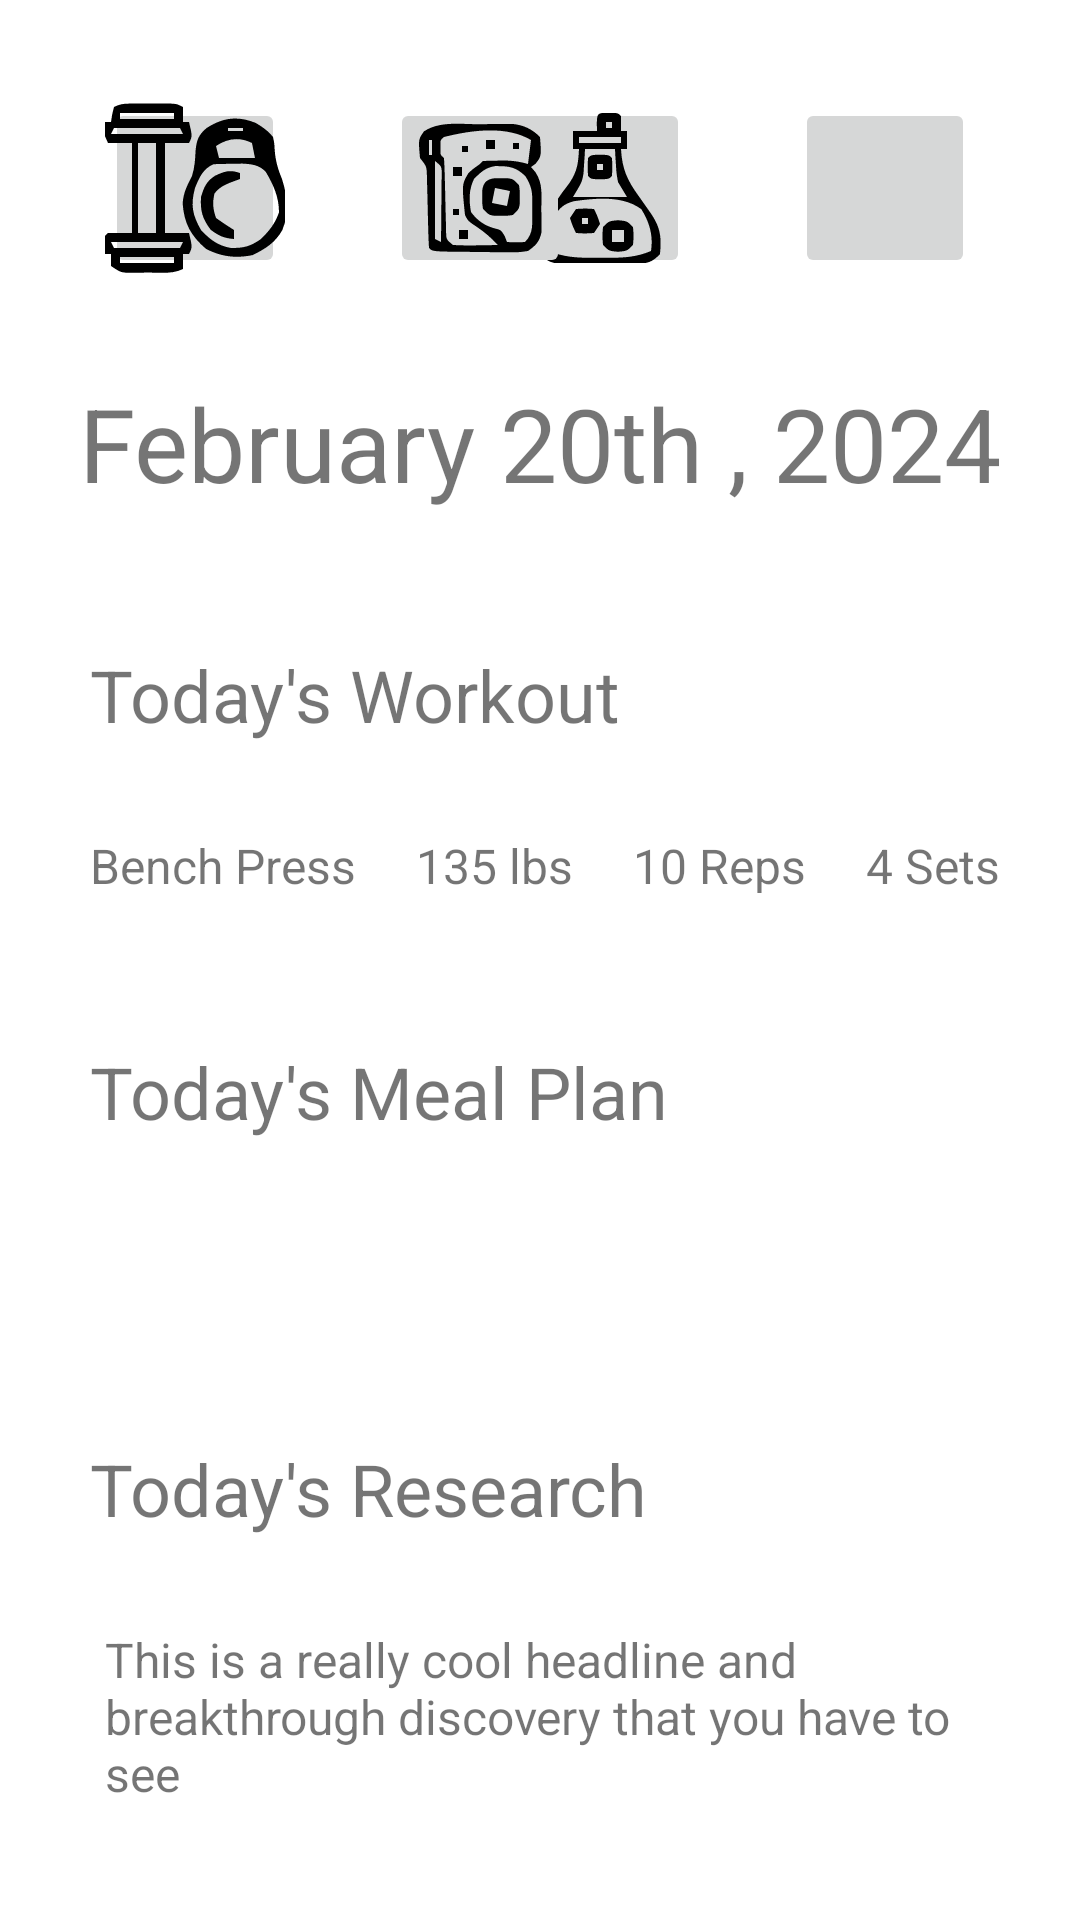

Locate icon controls on the screen. Image size 1080*1920, boxes as detection(x1, y1, x2, y2).
Meal Plan: detection(402, 116, 570, 263)
